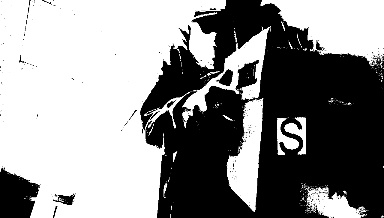S: (277, 117, 306, 154)
